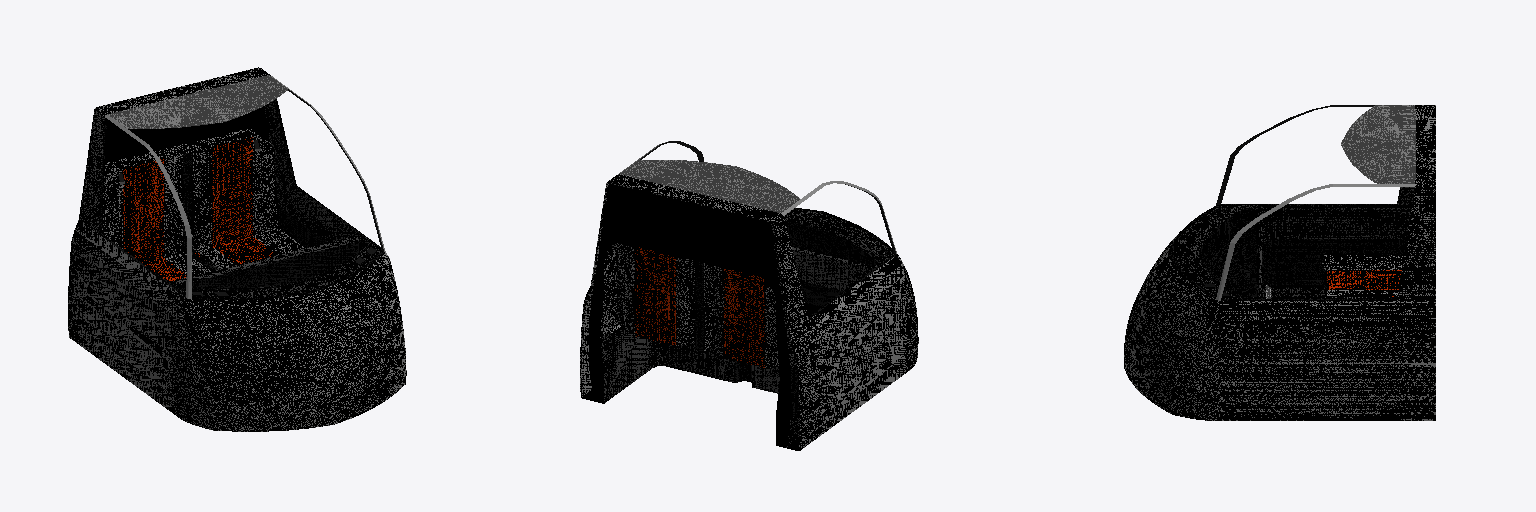
Rendered from chassis.obj.
3 views of the same model, side by side, from view 1: azimuth 30°, elevation 25°; view 2: azimuth 150°, elevation 25°; view 3: azimuth 270°, elevation 25° (orthographic).
Visible parts, largest first — view 1: group_4.002_ID363, group_2.002_ID37, group_2.019_ID141, group_2.022_ID159, group_4.022_ID483, group_4.019_ID465, group_2.001_ID29, group_4.044_ID615, group_2.044_ID295, group_2_ID19, group_4.037_ID573, group_2.037_ID253 (+8 smaller); view 2: group_4.002_ID363, group_2.037_ID253, group_4.037_ID573, group_2.032_ID223, group_2.019_ID141, group_2.022_ID159, group_4.022_ID483, group_4.001_ID357, group_4.019_ID465, group_4.044_ID615, group_2.044_ID295, group_2.002_ID37 (+6 smaller); view 3: group_2.002_ID37, group_4.001_ID357, group_4.038_ID579, group_4_ID351, group_2.044_ID295, group_4.044_ID615, group_4.019_ID465, group_4.022_ID483, group_2.023_ID167, group_4.002_ID363, group_2.009_ID81, group_4.009_ID405 (+3 smaller).
Boxes of the visible parts, box(x1,y1,x2,y2) form: group_4.002_ID363: box(68, 87, 333, 431); group_2.002_ID37: box(178, 67, 406, 424); group_2.019_ID141: box(178, 128, 304, 269); group_2.022_ID159: box(212, 137, 277, 264); group_4.022_ID483: box(123, 159, 186, 281); group_4.019_ID465: box(101, 146, 210, 275); group_2.001_ID29: box(264, 101, 371, 282); group_4.044_ID615: box(108, 94, 224, 128); group_2.044_ID295: box(188, 75, 287, 121); group_2_ID19: box(266, 241, 366, 286); group_4.037_ID573: box(105, 119, 177, 163); group_2.037_ID253: box(178, 106, 278, 227); group_4.002_ID363: box(690, 194, 918, 450); group_2.037_ID253: box(589, 184, 689, 403); group_4.037_ID573: box(690, 203, 790, 447); group_2.032_ID223: box(600, 328, 734, 403); group_2.019_ID141: box(600, 242, 694, 345); group_2.022_ID159: box(635, 247, 675, 345); group_4.022_ID483: box(724, 268, 764, 367); group_4.001_ID357: box(691, 202, 883, 368); group_4.019_ID465: box(704, 263, 778, 367); group_4.044_ID615: box(701, 167, 799, 212); group_2.044_ID295: box(620, 160, 736, 193); group_2.002_ID37: box(580, 174, 698, 397); group_2.002_ID37: box(1124, 144, 1435, 420); group_4.001_ID357: box(1193, 187, 1414, 298); group_4.038_ID579: box(1262, 239, 1406, 287); group_4_ID351: box(1199, 209, 1256, 290); group_2.044_ID295: box(1341, 144, 1415, 183); group_4.044_ID615: box(1341, 105, 1415, 143); group_4.019_ID465: box(1322, 255, 1403, 298); group_4.022_ID483: box(1327, 270, 1401, 290); group_2.023_ID167: box(1216, 184, 1414, 300); group_4.002_ID363: box(1124, 105, 1435, 343); group_2.009_ID81: box(1173, 252, 1238, 298); group_4.009_ID405: box(1173, 205, 1236, 251).
Bounding box in the file's own units: 1.3 × 1.26 × 1.6.